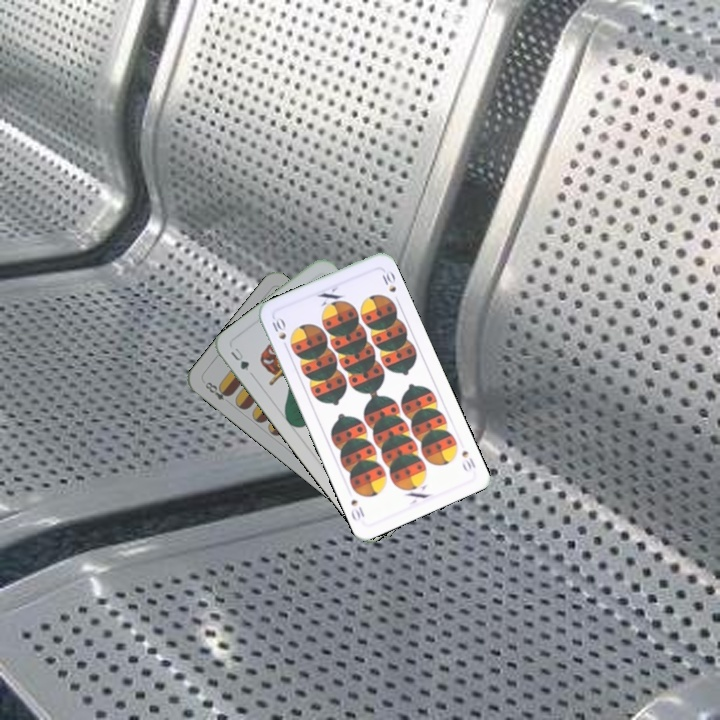E8: (201, 378, 233, 403)
GU: (226, 344, 252, 374)
S10: (268, 313, 291, 352), (458, 446, 478, 475)
